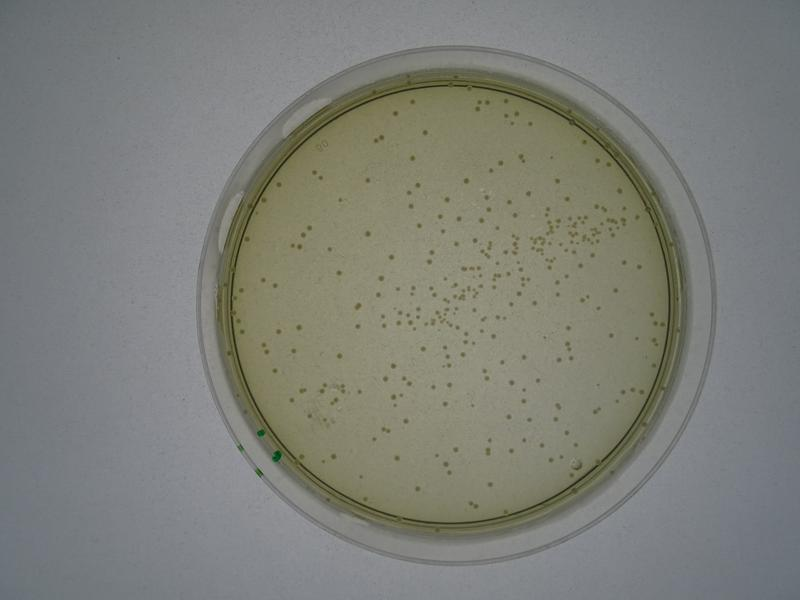colony: (604, 329, 617, 342), (292, 322, 306, 333), (390, 453, 402, 465), (333, 268, 345, 277), (420, 128, 432, 137), (522, 189, 534, 198), (362, 229, 372, 239), (387, 251, 397, 261), (336, 196, 346, 206), (451, 237, 460, 248), (362, 177, 374, 185), (336, 350, 343, 363), (408, 154, 418, 163), (498, 357, 507, 367), (564, 324, 574, 332), (612, 285, 620, 295), (462, 177, 471, 185), (443, 194, 451, 203), (440, 400, 449, 408), (401, 418, 410, 425), (413, 485, 421, 492), (272, 282, 278, 289)
